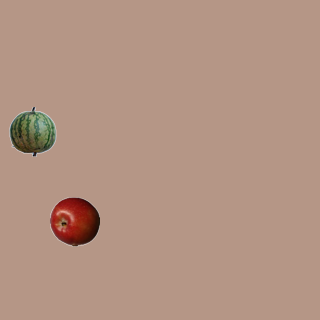Apple Braeburn: (49, 196, 99, 246)
Watermelon: (7, 106, 57, 156)
